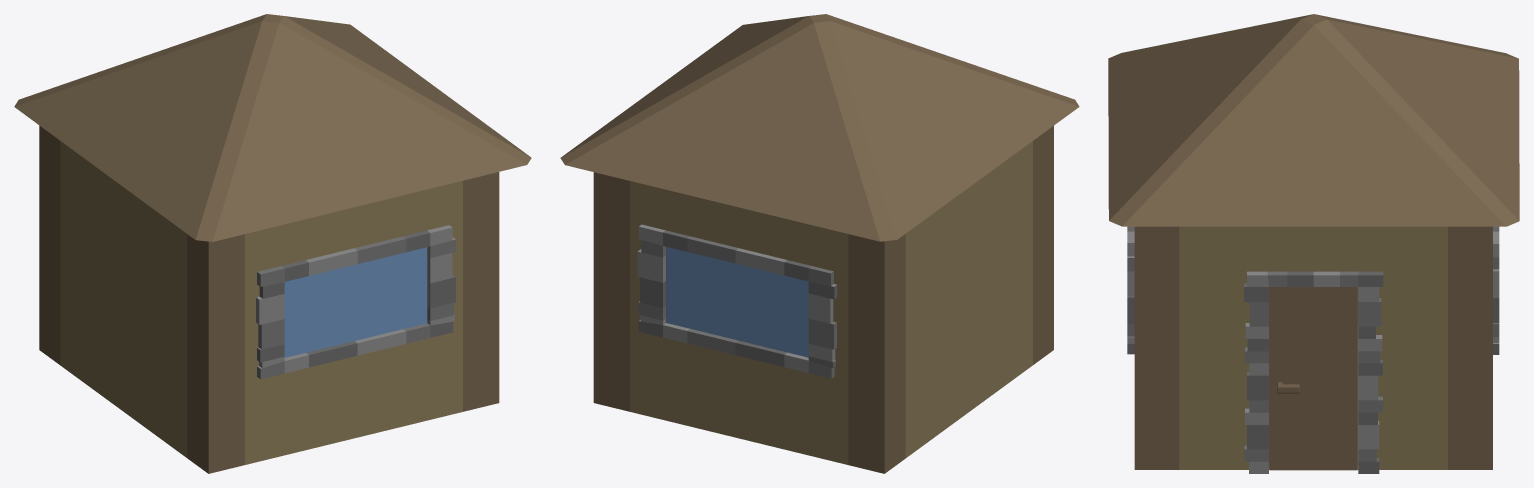
Rendered from CasitaPeque.fbx.
3 views of the same model, side by side, from view 1: azimuth 30°, elevation 25°; view 2: azimuth 150°, elevation 25°; view 3: azimuth 270°, elevation 25° (orthographic). The views are drawn at different scales.
Parts seen in each view (by area): view 1: Casa, Tejado, Ventana, VoraVentana; view 2: Casa, Tejado, Ventana, VoraVentana; view 3: Tejado, Casa, Puerta, VoraPuerta, VoraVentana.
Boxes of the visible parts, x1,y1,x2,y2 form: Casa: [39, 125, 499, 473]; Tejado: [14, 14, 531, 241]; Ventana: [284, 247, 427, 357]; VoraVentana: [256, 225, 455, 379]; Casa: [593, 126, 1053, 473]; Tejado: [560, 14, 1079, 241]; Ventana: [666, 247, 808, 357]; VoraVentana: [637, 224, 837, 378]; Tejado: [1108, 14, 1519, 226]; Casa: [1134, 226, 1492, 469]; Puerta: [1269, 287, 1357, 470]; VoraPuerta: [1244, 271, 1383, 473]; VoraVentana: [1127, 226, 1499, 354].
Bounding box in the file's own units: 345 × 349 × 345.
